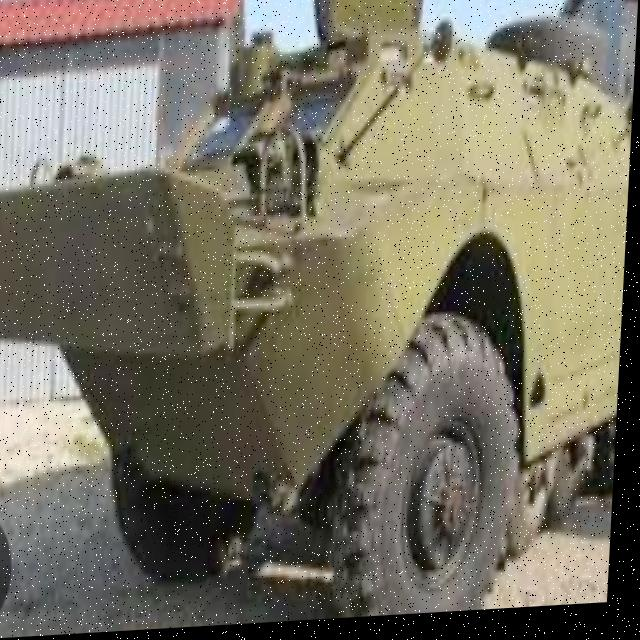MIL_APC: (10, 13, 638, 638)
